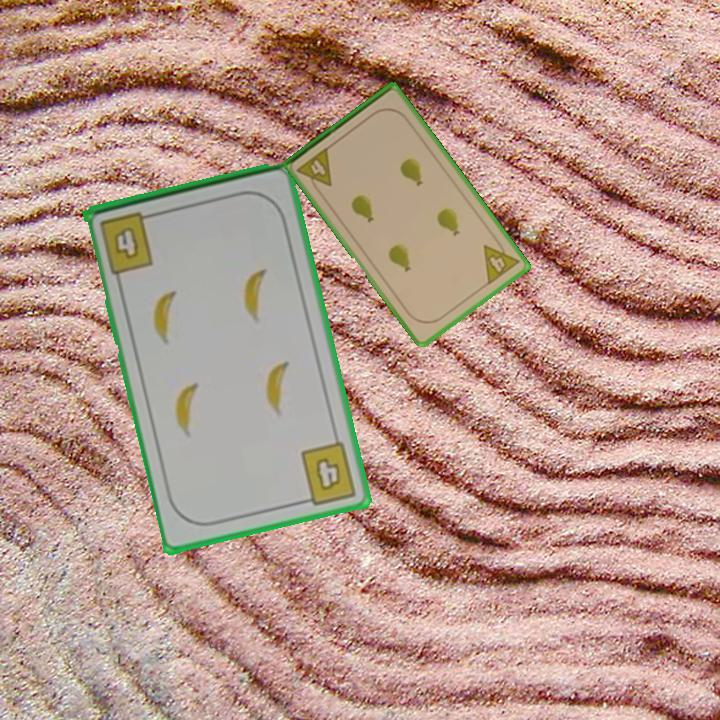4b: (296, 438, 360, 508), (96, 208, 159, 277)
4p: (480, 234, 522, 288), (293, 144, 335, 196)
